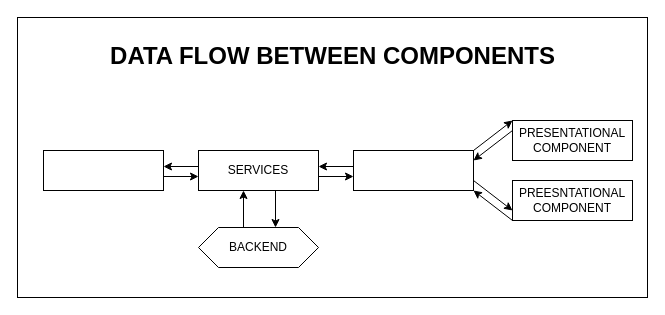
This 665x315 diagram has some shape labels left out. The box of each missing label's shape, as (x1, y1, x2, y2) in pixels:
CONTAINER COMPONENT: (352, 150, 474, 190)
STORE: (42, 150, 164, 190)
